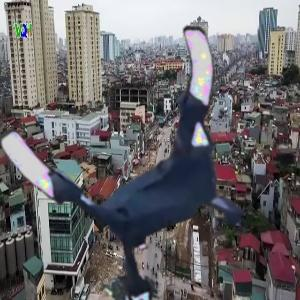drone: (29, 34, 284, 289)
